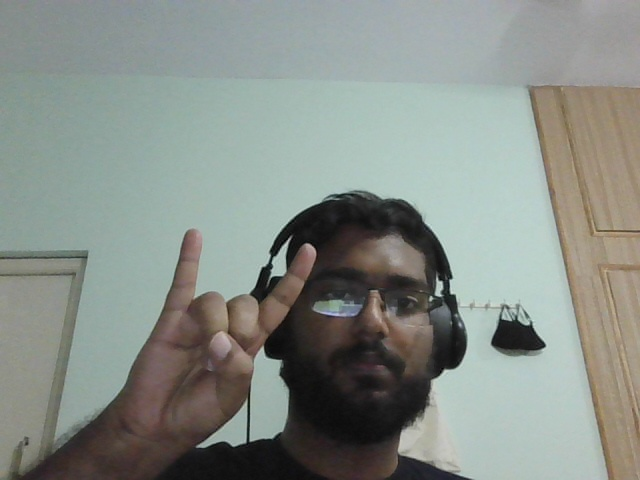I Love You: (106, 210, 331, 459)
